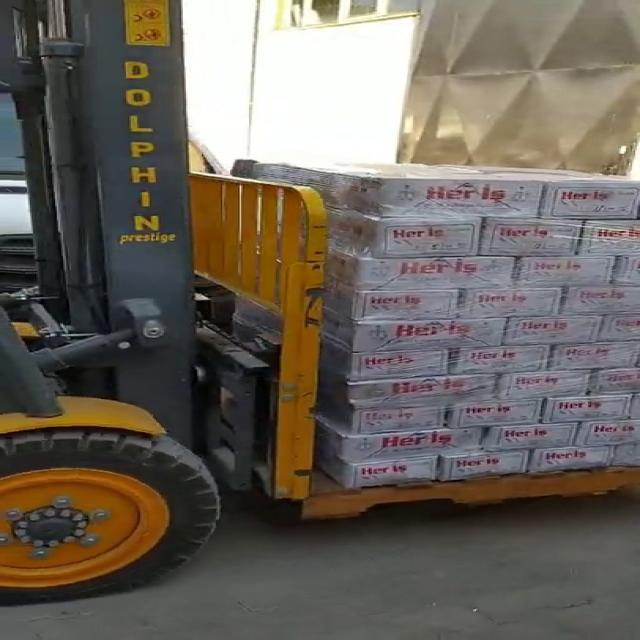Box: (246, 144, 640, 484)
ForkLift: (3, 2, 323, 610)
